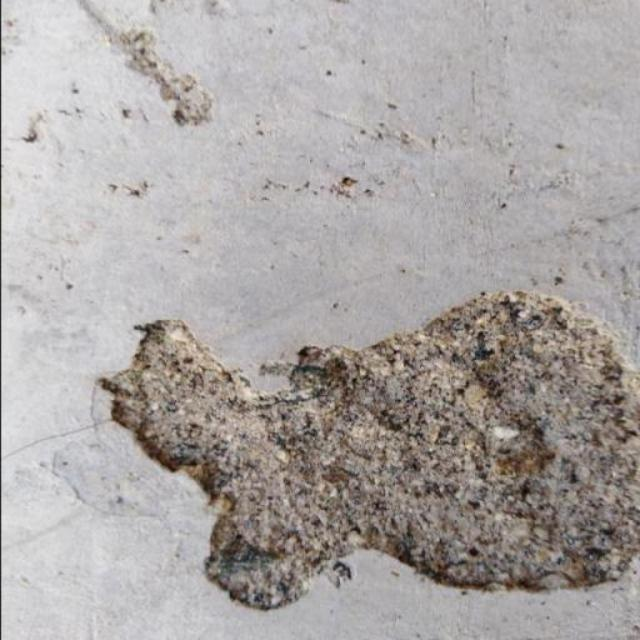D10: (118, 294, 637, 609)
